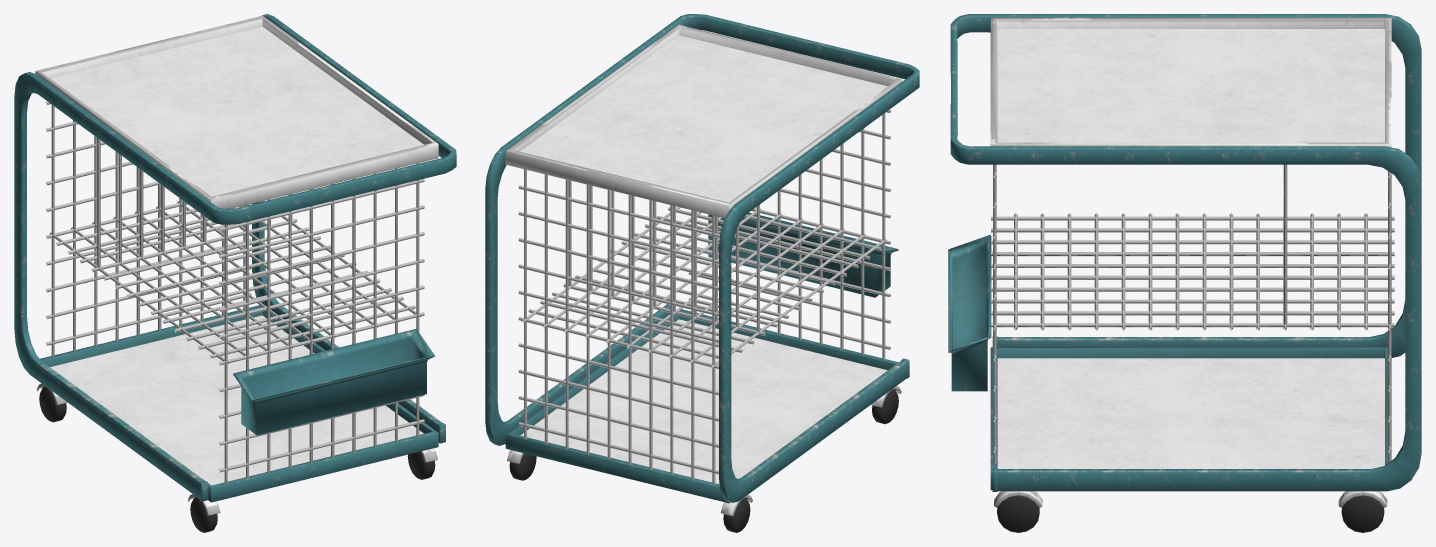
Rendered from tableSmall1.fbx.
3 renders of one model, left to right at view 1: azimuth 30°, elevation 25°; view 2: azimuth 150°, elevation 25°; view 3: azimuth 270°, elevation 25°, orthographic. The views are drawn at different scales.
Parts seen in each view (by area): view 1: tableSmall1; view 2: tableSmall1; view 3: tableSmall1.
Boxes of the visible parts, box(x1,y1,x2,y2) form: tableSmall1: box(14, 14, 456, 532); tableSmall1: box(485, 14, 919, 532); tableSmall1: box(948, 14, 1421, 532).
Size of the model in its own units: 52.09 by 69.63 by 76.71.
